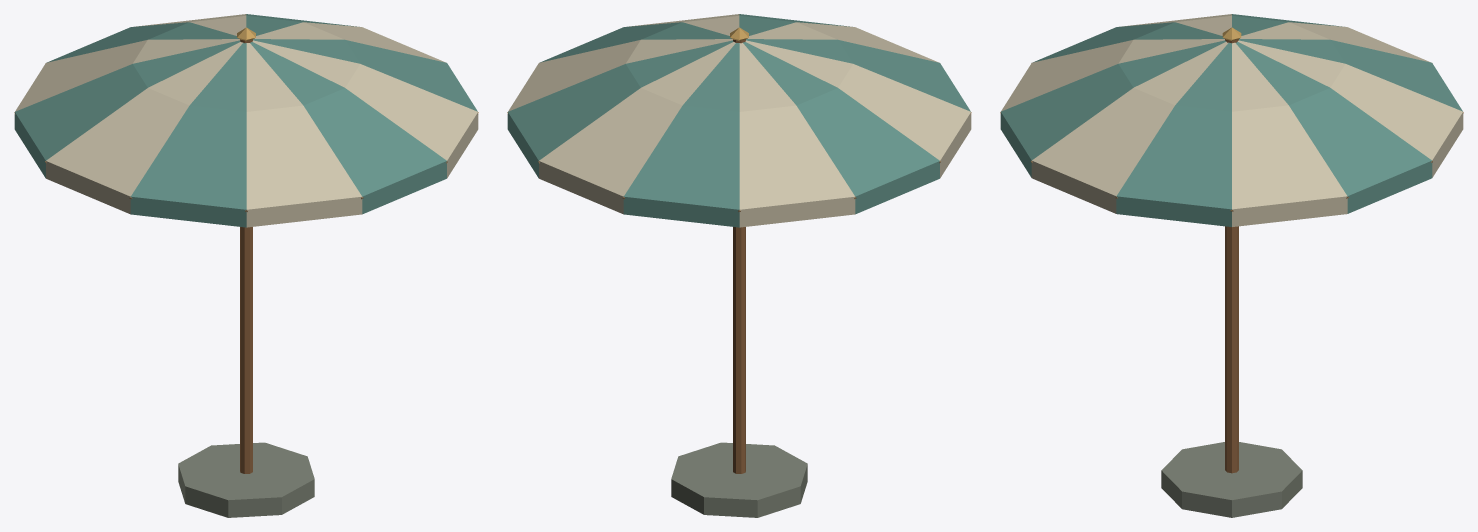
The model's file is picnic_parasol.glb.
The picture shows the model from 3 angles, left to right: view 1: azimuth 30°, elevation 25°; view 2: azimuth 150°, elevation 25°; view 3: azimuth 270°, elevation 25°; orthographic projection.
Parts seen in each view (by area): view 1: geometry; view 2: geometry; view 3: geometry.
Part boxes in pixels (x1=…): geometry: x1=14, y1=14, x2=478, y2=517; geometry: x1=507, y1=14, x2=971, y2=517; geometry: x1=1000, y1=14, x2=1463, y2=517.
Size of the model in its own units: 2.36 by 2.6 by 2.36.
